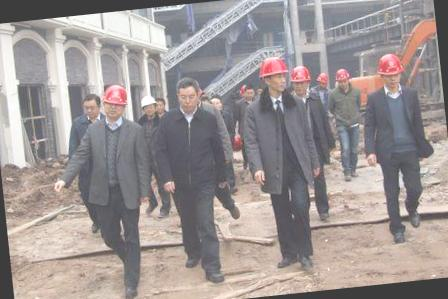no_helmet: (171, 72, 203, 114), (79, 90, 104, 120), (153, 93, 168, 114), (243, 82, 258, 100)
